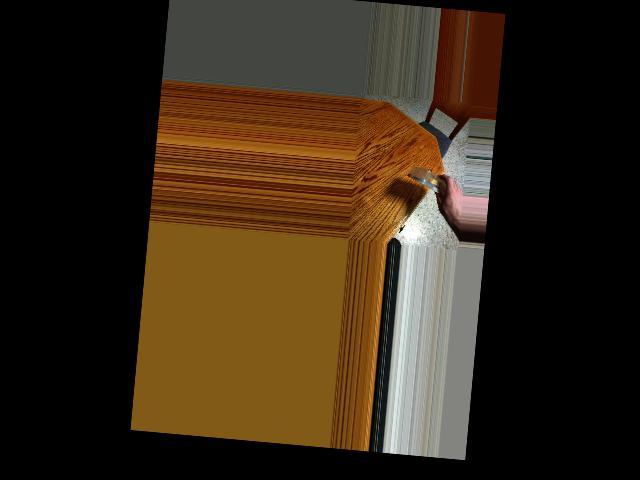cheese: (404, 165, 453, 194)
